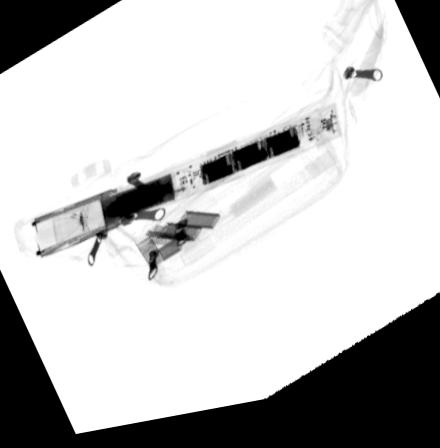Baton: (28, 113, 344, 259)
